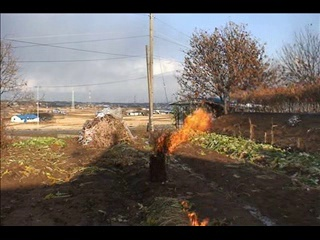fire: (154, 107, 214, 154), (179, 196, 212, 226)
